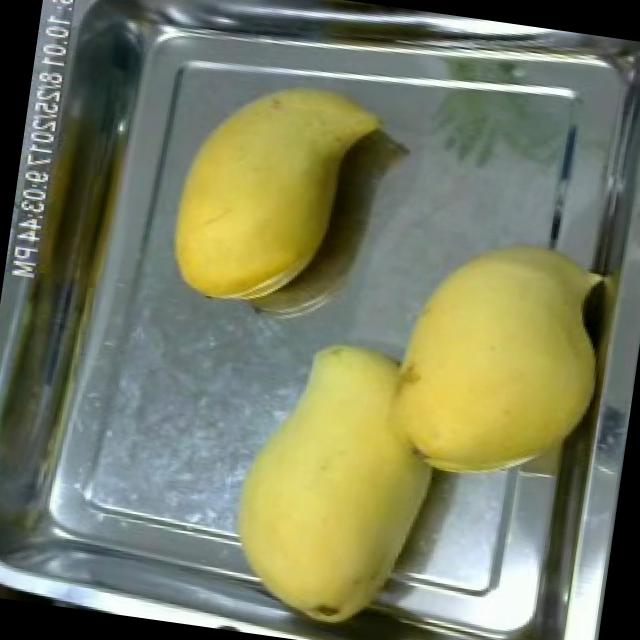fruit: (212, 311, 465, 640), (368, 211, 624, 509), (152, 59, 363, 327)
